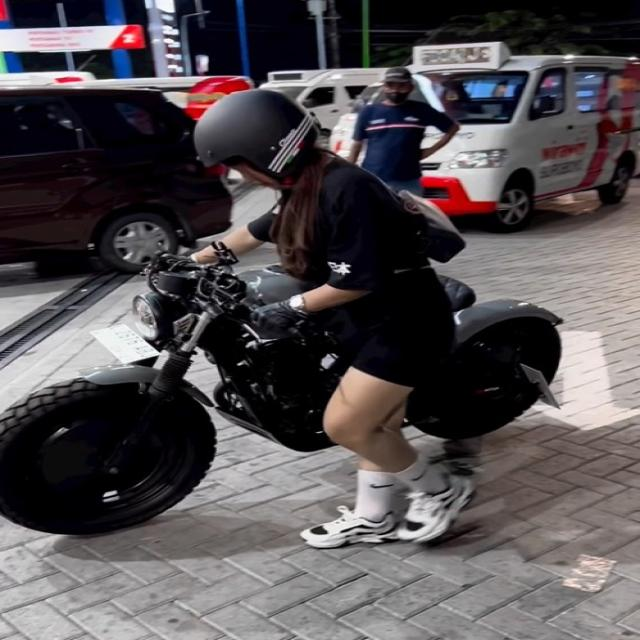helmet: (185, 86, 326, 194)
